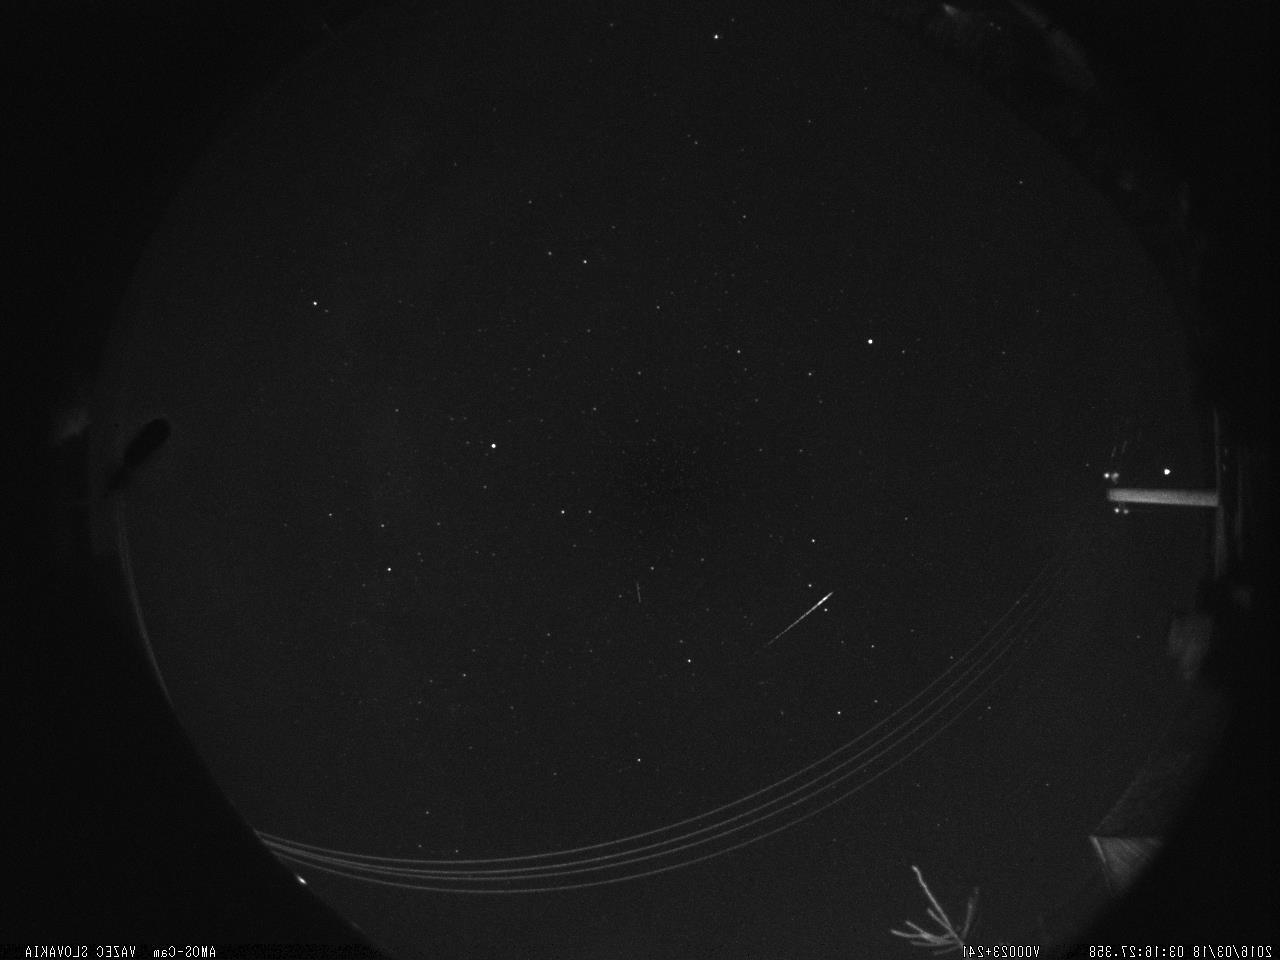meteor: (753, 565, 858, 653)
